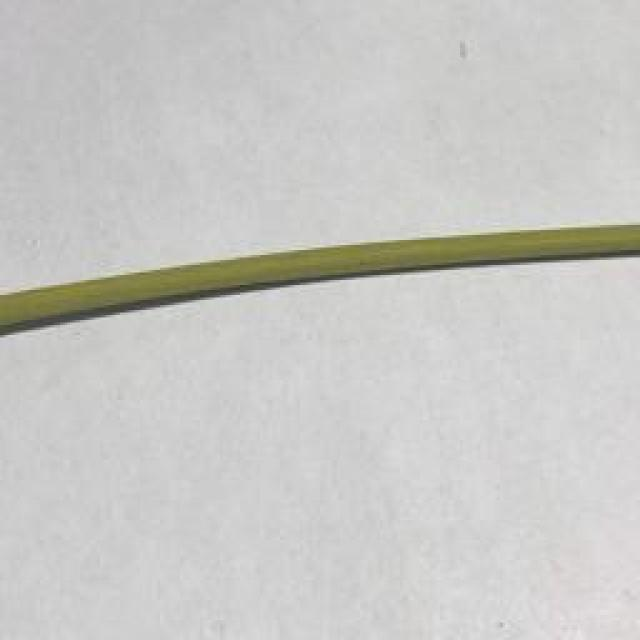Healthy-Plant: (0, 217, 640, 361)
